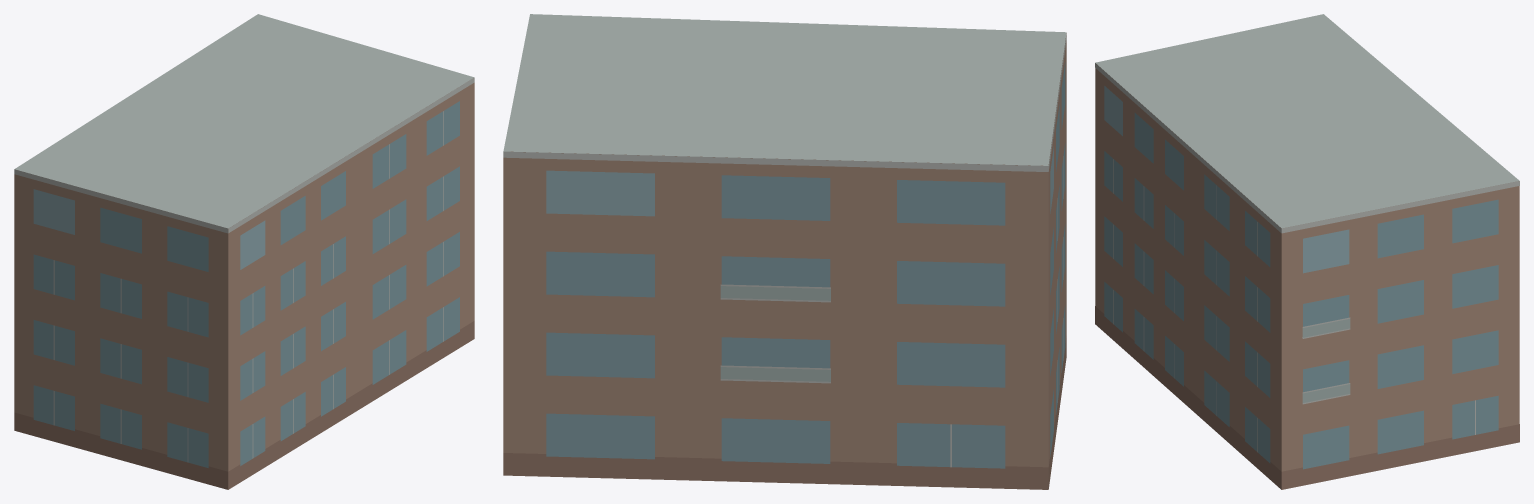
File: survey-upis-32837969.glb
The picture shows the model from 3 angles, left to right: view 1: azimuth 30°, elevation 25°; view 2: azimuth 150°, elevation 25°; view 3: azimuth 270°, elevation 25°; orthographic projection. The views are drawn at different scales.
Visible parts, largest first — view 1: survey-upis-32837969.tmp; view 2: survey-upis-32837969.tmp; view 3: survey-upis-32837969.tmp.
Boxes of the visible parts, x1=… form: survey-upis-32837969.tmp: x1=14, y1=14, x2=474, y2=489; survey-upis-32837969.tmp: x1=503, y1=14, x2=1066, y2=489; survey-upis-32837969.tmp: x1=1095, y1=14, x2=1519, y2=489.
Size of the model in its own units: 22.4 by 12.73 by 18.75.
